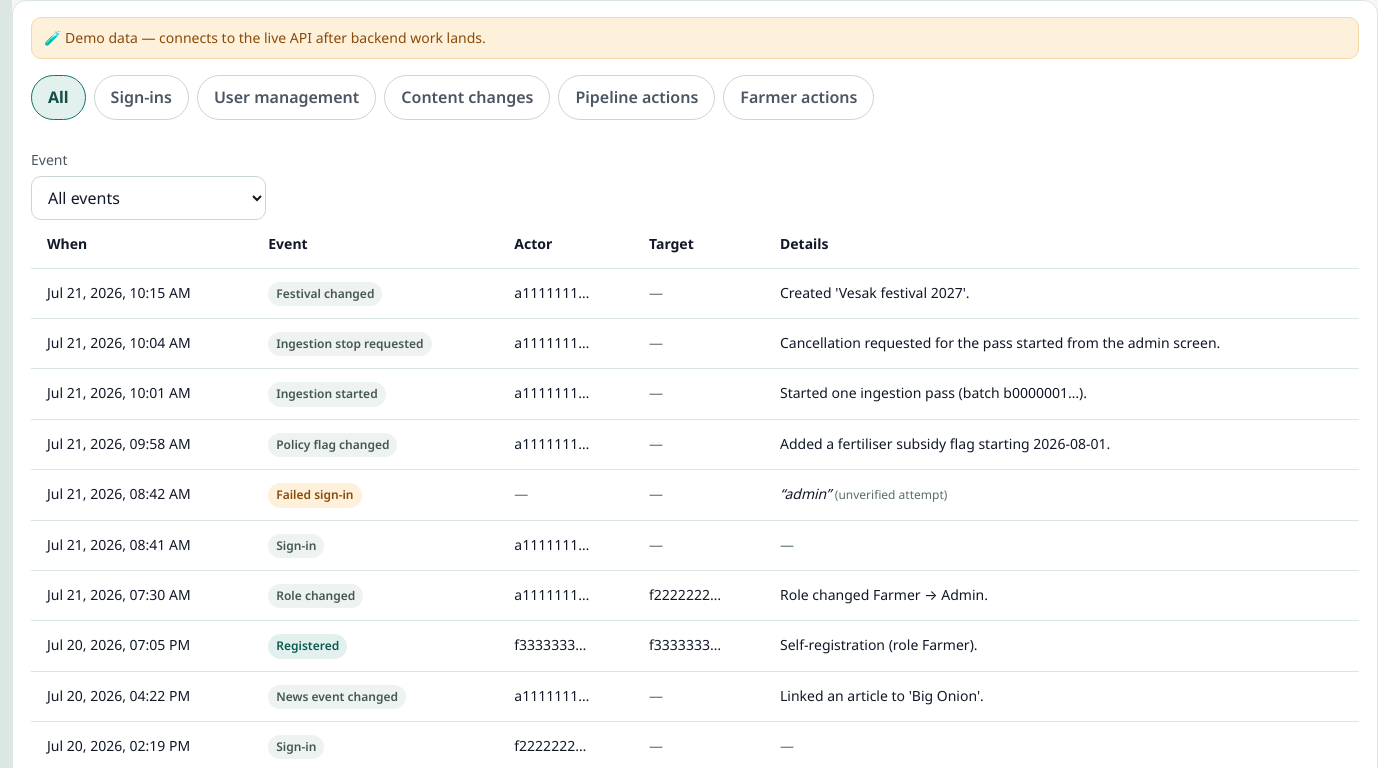
Test: System log — group sub-tabs › labels, filters and deep-links every farmer-authored event, in wire order
Step 1. Click the tab "Farmer actions" → (799, 97), box [723,75,874,120]
(page scrolled)
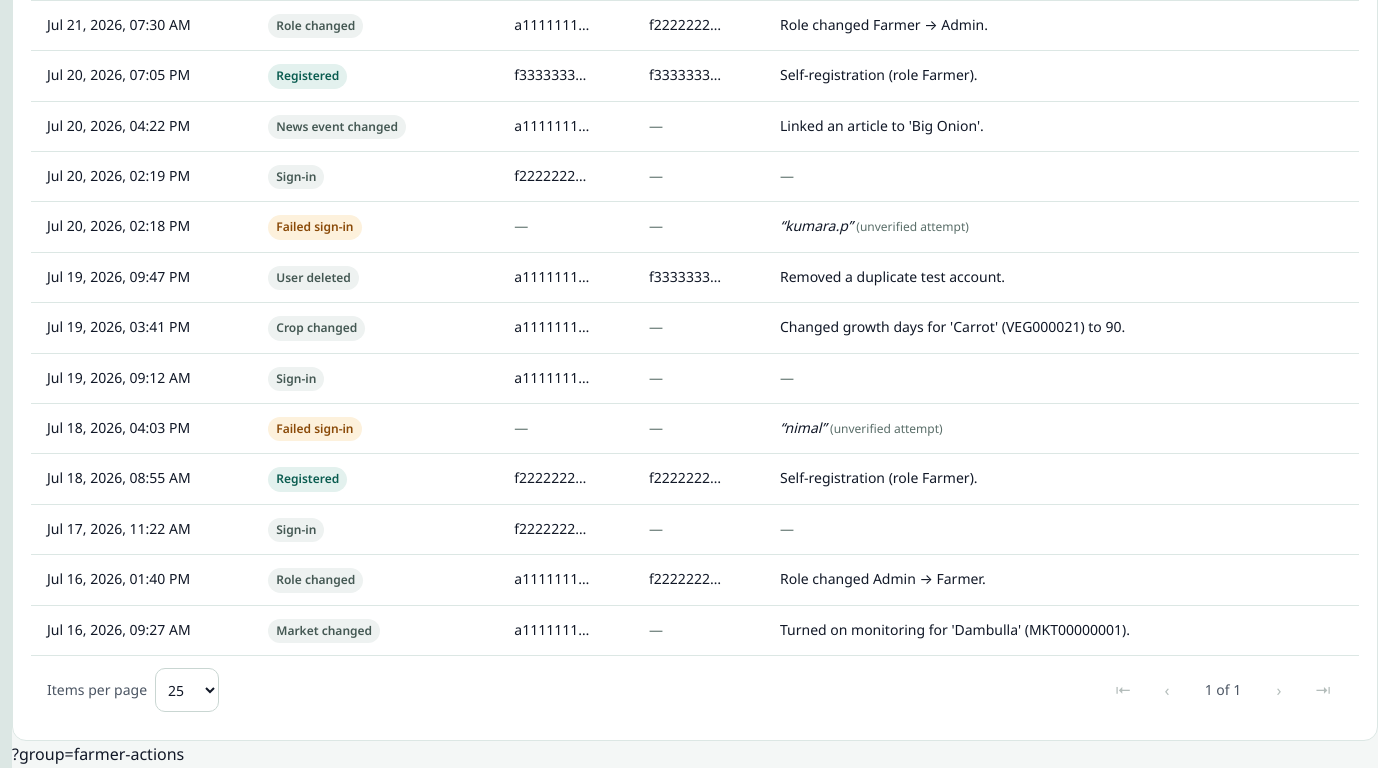
Check: the text with test id "search" reads "?group=farmer-actions", box [12,743,184,765]
